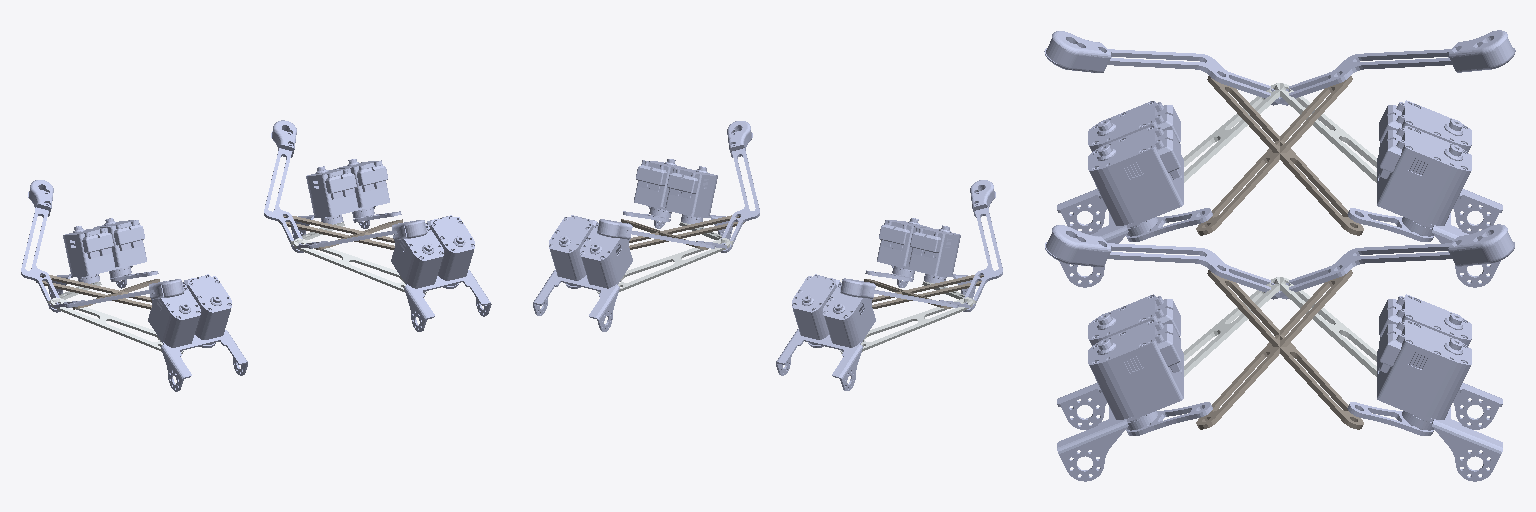
--- What the picture shows (computed from the rendered views, not written in the file) ---
3 views of the same robot in one strip: view 1: azimuth 30°, elevation 25°; view 2: azimuth 150°, elevation 25°; view 3: azimuth 270°, elevation 25° (orthographic).
Robot: stoch_two_abduction_urdf — 23 links, 22 joints (12 revolute, 8 continuous, 2 fixed); root link base_link; default pose: joints at zero except 4 at the middle of their limits (motor_front_left_abd_joint = -1.99, motor_front_right_abd_joint = -1.99, motor_back_left_abd_joint = -1.99, motor_back_right_abd_joint = -1.99).
Visible links, largest first — view 1: front_right_abd_link, back_right_abd_link, front_left_abd_link, back_left_abd_link, br_lower_hip_link, fr_lower_hip_link, fr_upper_hip_link, br_upper_hip_link, fl_lower_hip_link, bl_lower_hip_link, br_lower_knee_link, fr_lower_knee_link; view 2: front_left_abd_link, back_left_abd_link, back_right_abd_link, front_right_abd_link, fl_lower_hip_link, bl_lower_hip_link, bl_upper_hip_link, fl_upper_hip_link, br_lower_hip_link, fr_lower_hip_link, bl_lower_knee_link, fl_lower_knee_link; view 3: front_right_abd_link, front_left_abd_link, back_right_abd_link, back_left_abd_link, br_lower_hip_link, fr_lower_hip_link, bl_lower_hip_link, fl_lower_hip_link, bl_lower_knee_link, fr_lower_knee_link, br_lower_knee_link, fl_lower_knee_link (+8 smaller).
Link boxes in pixels (bbox=[...]): front_right_abd_link: bbox=[391, 215, 491, 331]; back_right_abd_link: bbox=[148, 274, 247, 391]; front_left_abd_link: bbox=[291, 159, 389, 239]; back_left_abd_link: bbox=[48, 218, 146, 298]; br_lower_hip_link: bbox=[21, 180, 60, 312]; fr_lower_hip_link: bbox=[264, 120, 303, 252]; fr_upper_hip_link: bbox=[294, 238, 426, 294]; br_upper_hip_link: bbox=[51, 297, 183, 353]; fl_lower_hip_link: bbox=[291, 220, 427, 248]; bl_lower_hip_link: bbox=[48, 279, 183, 308]; br_lower_knee_link: bbox=[36, 275, 151, 309]; fr_lower_knee_link: bbox=[279, 216, 394, 249]; front_left_abd_link: bbox=[533, 215, 632, 331]; back_left_abd_link: bbox=[776, 274, 875, 390]; back_right_abd_link: bbox=[877, 218, 975, 298]; front_right_abd_link: bbox=[634, 159, 732, 239]; fl_lower_hip_link: bbox=[721, 121, 759, 252]; bl_lower_hip_link: bbox=[963, 180, 1002, 311]; bl_upper_hip_link: bbox=[840, 297, 972, 353]; fl_upper_hip_link: bbox=[597, 238, 729, 293]; br_lower_hip_link: bbox=[840, 278, 975, 307]; fr_lower_hip_link: bbox=[597, 219, 732, 248]; bl_lower_knee_link: bbox=[872, 275, 983, 308]; fl_lower_knee_link: bbox=[629, 215, 744, 249]; front_right_abd_link: bbox=[1057, 294, 1183, 481]; front_left_abd_link: bbox=[1377, 294, 1502, 481]; back_right_abd_link: bbox=[1057, 101, 1183, 287]; back_left_abd_link: bbox=[1377, 100, 1502, 287]; br_lower_hip_link: bbox=[1271, 30, 1515, 105]; fr_lower_hip_link: bbox=[1271, 224, 1514, 299]; bl_lower_hip_link: bbox=[1044, 31, 1288, 105]; fl_lower_hip_link: bbox=[1045, 225, 1288, 299]; bl_lower_knee_link: bbox=[1207, 76, 1363, 235]; fr_lower_knee_link: bbox=[1196, 270, 1352, 429]; br_lower_knee_link: bbox=[1196, 76, 1352, 235]; fl_lower_knee_link: bbox=[1207, 270, 1363, 429].
Bounding box of the posed robot: 0.424 × 0.2779 × 0.1266 m (x, y, z).
Meshes: 9 distinct files referenced, 20 mesh visuals loaded (6 binary STL); not drawn: 3 (reference not matched to a file when rendering).

The robot description file, URDF, robot "stoch_two_abduction_urdf":
<robot
  name="stoch_two_abduction_urdf">
  <link
    name="base_link">
    <inertial>
      <origin
        xyz="-0.00018289 -0.00058314 -0.0014954"
        rpy="0 0 0" />
      <mass
        value="0.1" />
      <inertia
        ixx="1.703E-05"
        ixy="4.4289E-07"
        ixz="3.1832E-08"
        iyy="8.9209E-05"
        iyz="-1.5964E-06"
        izz="0.00010459" />
    </inertial>
    <visual>
      <origin
        xyz="0 0 0"
        rpy="0 0 0" />
      <geometry>
        <mesh
          filename="package://stoch_two_abduction_urdf/meshes/base_link.STL" />
      </geometry>
      <material
        name="">
        <color
          rgba="0.79216 0.81961 0.93333 1" />
      </material>
    </visual>
    <collision>
      <origin
        xyz="0 0 0"
        rpy="0 0 0" />
      <geometry>
        <mesh
          filename="package://stoch_two_abduction_urdf/meshes/base_link.STL" />
      </geometry>
    </collision>
  </link>
  <link
    name="front_body_link">
    <inertial>
      <origin
        xyz="0.088699 3.0745E-07 0.019722"
        rpy="0 0 0" />
      <mass
        value="1" />
      <inertia
        ixx="0.0022826"
        ixy="-5.8326E-09"
        ixz="-1.2357E-05"
        iyy="0.0005698"
        iyz="4.2795E-07"
        izz="0.0026158" />
    </inertial>
    <visual>
      <origin
        xyz="0 0 0"
        rpy="0 0 0" />
      <geometry>
        <mesh
          filename="package://stoch_two_abduction_urdf/meshes/front_body_link.STL" />
      </geometry>
      <material
        name="">
        <color
          rgba="0.79216 0.81961 0.93333 1" />
      </material>
    </visual>
    <collision>
      <origin
        xyz="0 0 0"
        rpy="0 0 0" />
      <geometry>
        <mesh
          filename="package://stoch_two_abduction_urdf/meshes/front_body_link.STL" />
      </geometry>
    </collision>
  </link>
  <joint
    name="motor_front_body_spine_joint"
    type="fixed">
    <origin
      xyz="0.050947 0 0"
      rpy="-2.2019E-15 1.7035E-16 3.4422E-15" />
    <parent
      link="base_link" />
    <child
      link="front_body_link" />
    <!-- <axis
      xyz="0 1 0" />
    <limit
      lower="-0.26"
      upper="0.26"
      effort="100"
      velocity="100" />
    <dynamics
      damping="0"
      friction="0" /> -->
  </joint>
  <link
    name="front_left_abd_link">
    <inertial>
      <origin
        xyz="4.118E-05 -0.032715 -0.048093"
        rpy="0 0 0" />
      <mass
        value="0.277" />
      <inertia
        ixx="1.1789E-05"
        ixy="2.5858E-08"
        ixz="1.1409E-07"
        iyy="4.0497E-05"
        iyz="-5.2784E-06"
        izz="4.3082E-05" />
    </inertial>
    <visual>
      <origin
        xyz="0 0 0"
        rpy="0 0 0" />
      <geometry>
        <mesh
          filename="package://stoch_two_abduction_urdf/meshes/front_left_abd_link.STL" />
      </geometry>
      <material
        name="">
        <color
          rgba="0.79216 0.81961 0.93333 1" />
      </material>
    </visual>
    <collision>
      <origin
        xyz="0 0 0"
        rpy="0 0 0" />
      <geometry>
        <mesh
          filename="package://stoch_two_abduction_urdf/meshes/front_left_abd_link.STL" />
      </geometry>
    </collision>
  </link>
  <joint
    name="motor_front_left_abd_joint"
    type="revolute">
    <origin
      xyz="0.0831 0.11512 0.0073929"
      rpy="-4.4959E-07 -5.8797E-16 3.47E-15" />
    <parent
      link="front_body_link" />
    <child
      link="front_left_abd_link" />
    <axis
      xyz="1 0 0" />
    <limit
      lower="-0.06"
      upper="-3.92"
      effort="100"
      velocity="100" />
    <dynamics
      damping="0"
      friction="0" />
  </joint>
  <link
    name="fl_upper_hip_link">
    <inertial>
      <origin
        xyz="1.793E-07 2.498E-16 -0.054218"
        rpy="0 0 0" />
      <mass
        value="0.05" />
      <inertia
        ixx="0"
        ixy="0"
        ixz="0"
        iyy="0"
        iyz="0"
        izz="0" />
    </inertial>
    <visual>
      <origin
        xyz="0 0 0"
        rpy="0 0 0" />
      <geometry>
        <mesh
          filename="package://stoch_two_abduction_urdf/meshes/fl_upper_hip_link.STL" />
      </geometry>
      <material
        name="">
        <color
          rgba="0.89804 0.91765 0.92941 1" />
      </material>
    </visual>
    <collision>
      <origin
        xyz="0 0 0"
        rpy="0 0 0" />
      <geometry>
        <mesh
          filename="package://stoch_two_abduction_urdf/meshes/fl_upper_hip_link.STL" />
      </geometry>
    </collision>
  </link>
  <joint
    name="motor_fl_upper_hip_joint"
    type="revolute">
    <origin
      xyz="-0.0175 -0.0015 -0.0385"
      rpy="-5.3246E-15 0.78557 -4.3361E-15" />
    <parent
      link="front_left_abd_link" />
    <child
      link="fl_upper_hip_link" />
    <axis
      xyz="0 -1 0" />
    <limit
      lower="-0.78"
      upper="0.78"
      effort="100"
      velocity="100" />
    <dynamics
      damping="0"
      friction="0" />
  </joint>
  <link
    name="fl_lower_hip_link">
    <inertial>
      <origin
        xyz="-0.034185 0.00011378 -0.11157"
        rpy="0 0 0" />
      <mass
        value="0.1" />
      <inertia
        ixx="9.59277e-06"
        ixy="5.4371E-09"
        ixz="-2.1257E-09"
        iyy="9.59277e-06"
        iyz="3.5983E-09"
        izz="9.59277e-06" />
    </inertial>
    <visual>
      <origin
        xyz="0 0 0"
        rpy="0 0 0" />
      <geometry>
        <mesh
          filename="package://stoch_two_abduction_urdf/meshes/fl_lower_hip_link.STL" />
      </geometry>
      <material
        name="">
        <color
          rgba="0.79216 0.81961 0.93333 1" />
      </material>
    </visual>
    <collision>
      <origin
        xyz="0 0 0"
        rpy="0 0 0" />
      <geometry>
        <mesh
          filename="package://stoch_two_abduction_urdf/meshes/fl_lower_hip_link.STL" />
      </geometry>
    </collision>
  </link>
  <joint
    name="fl_lower_hip_joint"
    type="continuous">
    <origin
      xyz="0 0.0045 -0.12"
      rpy="3.7352E-14 -1.4398 -3.7103E-14" />
    <parent
      link="fl_upper_hip_link" />
    <child
      link="fl_lower_hip_link" />
    <axis
      xyz="0 1 0" />
  </joint>
  <link
    name="fl_upper_knee_link">
    <inertial>
      <origin
        xyz="-2.7756E-17 1.3878E-17 -0.014638"
        rpy="0 0 0" />
      <mass
        value="0.1" />
      <inertia
        ixx="1.4068E-05"
        ixy="5.4371E-09"
        ixz="-2.1257E-09"
        iyy="1.4389E-05"
        iyz="3.5983E-09"
        izz="1.4389E-05" />
    </inertial>
    <visual>
      <origin
        xyz="0 0 0"
        rpy="0 0 0" />
      <geometry>
        <mesh
          filename="package://stoch_two_abduction_urdf/meshes/fl_upper_knee_link.STL" />
      </geometry>
      <material
        name="">
        <color
          rgba="0.79216 0.81961 0.93333 1" />
      </material>
    </visual>
    <collision>
      <origin
        xyz="0 0 0"
        rpy="0 0 0" />
      <geometry>
        <mesh
          filename="package://stoch_two_abduction_urdf/meshes/fl_upper_knee_link.STL" />
      </geometry>
    </collision>
  </link>
  <joint
    name="motor_fl_upper_knee_joint"
    type="revolute">
    <origin
      xyz="0.0175 -0.0015 -0.0385"
      rpy="-2.4427E-16 -0.34913 -3.4692E-15" />
    <parent
      link="front_left_abd_link" />
    <child
      link="fl_upper_knee_link" />
    <axis
      xyz="0 -1 0" />
    <limit
      lower="-1.22"
      upper="1.22"
      effort="100"
      velocity="100" />
    <dynamics
      damping="0"
      friction="0" />
  </joint>
  <link
    name="fl_lower_knee_link">
    <inertial>
      <origin
        xyz="2.7756E-17 1.3878E-17 -0.0775"
        rpy="0 0 0" />
      <mass
        value="0.1" />
      <inertia
        ixx="1.4068E-05"
        ixy="5.4371E-09"
        ixz="-2.1257E-09"
        iyy="1.4389E-05"
        iyz="3.5983E-09"
        izz="1.4389E-05" />
    </inertial>
    <visual>
      <origin
        xyz="0 0 0"
        rpy="0 0 0" />
      <geometry>
        <mesh
          filename="package://stoch_two_abduction_urdf/meshes/fl_lower_knee_link.STL" />
      </geometry>
      <material
        name="">
        <color
          rgba="0.65098 0.61961 0.58824 1" />
      </material>
    </visual>
    <collision>
      <origin
        xyz="0 0 0"
        rpy="0 0 0" />
      <geometry>
        <mesh
          filename="package://stoch_two_abduction_urdf/meshes/fl_lower_knee_link.STL" />
      </geometry>
    </collision>
  </link>
  <joint
    name="fl_lower_knee_joint"
    type="continuous">
    <origin
      xyz="0 0.00800000000000321 -0.04"
      rpy="-6.00351684713904E-16 1.32467433907094 -5.43469254040339E-16" />
    <parent
      link="fl_upper_knee_link" />
    <child
      link="fl_lower_knee_link" />
    <axis
      xyz="0 0.999999999999798 0" />
  </joint>
  <link
    name="front_right_abd_link">
    <inertial>
      <origin
        xyz="-4.118E-05 0.032715 -0.048093"
        rpy="0 0 0" />
      <mass
        value="0.277" />
      <inertia
        ixx="1.1789E-05"
        ixy="2.5858E-08"
        ixz="-1.1409E-07"
        iyy="4.0497E-05"
        iyz="5.2784E-06"
        izz="4.3082E-05" />
    </inertial>
    <visual>
      <origin
        xyz="0 0 0"
        rpy="0 0 0" />
      <geometry>
        <mesh
          filename="package://stoch_two_abduction_urdf/meshes/front_right_abd_link.STL" />
      </geometry>
      <material
        name="">
        <color
          rgba="0.79216 0.81961 0.93333 1" />
      </material>
    </visual>
    <collision>
      <origin
        xyz="0 0 0"
        rpy="0 0 0" />
      <geometry>
        <mesh
          filename="package://stoch_two_abduction_urdf/meshes/front_right_abd_link.STL" />
      </geometry>
    </collision>
  </link>
  <joint
    name="motor_front_right_abd_joint"
    type="revolute">
    <origin
      xyz="0.0831 -0.11512 0.007393"
      rpy="-6.5915E-08 5.6553E-16 3.5412E-15" />
    <parent
      link="front_body_link" />
    <child
      link="front_right_abd_link" />
    <axis
      xyz="-1 0 0" />
    <limit
      lower="-0.06"
      upper="-3.92"
      effort="100"
      velocity="100" />
    <dynamics
      damping="0"
      friction="0" />
  </joint>
  <link
    name="fr_upper_hip_link">
    <inertial>
      <origin
        xyz="1.793E-07 2.7756E-16 -0.054218"
        rpy="0 0 0" />
      <mass
        value="0.1" />
      <inertia
        ixx="1.4068E-05"
        ixy="5.4371E-09"
        ixz="-2.1257E-09"
        iyy="1.4389E-05"
        iyz="3.5983E-09"
        izz="1.4389E-05" />
    </inertial>
    <visual>
      <origin
        xyz="0 0 0"
        rpy="0 0 0" />
      <geometry>
        <mesh
          filename="package://stoch_two_abduction_urdf/meshes/fl_upper_hip_link.STL" />
      </geometry>
      <material
        name="">
        <color
          rgba="0.89804 0.91765 0.92941 1" />
      </material>
    </visual>
    <collision>
      <origin
        xyz="0 0 0"
        rpy="0 0 0" />
      <geometry>
        <mesh
          filename="package://stoch_two_abduction_urdf/meshes/fl_upper_hip_link.STL" />
      </geometry>
    </collision>
  </link>
  <joint
    name="motor_fr_upper_hip_joint"
    type="revolute">
    <origin
      xyz="-0.0175 0.0015 -0.0385"
      rpy="-4.9286E-15 0.78557 -3.9063E-15" />
    <parent
      link="front_right_abd_link" />
    <child
      link="fr_upper_hip_link" />
    <axis
      xyz="0 -1 0" />
    <limit
      lower="-0.78"
      upper="0.78"
      effort="100"
      velocity="100" />
    <dynamics
      damping="0"
      friction="0" />
  </joint>
  <link
    name="fr_lower_hip_link">
    <inertial>
      <origin
        xyz="-0.034185 0.00011378 -0.11157"
        rpy="0 0 0" />
      <mass
        value="0.1" />
      <inertia
        ixx="9.59277e-06"
        ixy="5.4371E-09"
        ixz="-2.1257E-06"
        iyy="9.59277e-06"
        iyz="3.5983E-08"
        izz="9.59277e-06" />
    </inertial>
    <visual>
      <origin
        xyz="0 0 0"
        rpy="0 0 0" />
      <geometry>
        <mesh
          filename="package://stoch_two_abduction_urdf/meshes/fl_lower_hip_link.STL" />
      </geometry>
      <material
        name="">
        <color
          rgba="0.79216 0.81961 0.93333 1" />
      </material>
    </visual>
    <collision>
      <origin
        xyz="0 0 0"
        rpy="0 0 0" />
      <geometry>
        <mesh
          filename="package://stoch_two_abduction_urdf/meshes/fl_lower_hip_link.STL" />
      </geometry>
    </collision>
  </link>
  <joint
    name="fr_lower_hip_joint"
    type="continuous">
    <origin
      xyz="0 -0.0045 -0.12"
      rpy="0 -1.4398 0" />
    <parent
      link="fr_upper_hip_link" />
    <child
      link="fr_lower_hip_link" />
    <axis
      xyz="0 1 0" />
  </joint>
  <link
    name="fr_upper_knee_link">
    <inertial>
      <origin
        xyz="-2.7756E-17 -1.3878E-17 -0.014638"
        rpy="0 0 0" />
      <mass
        value="0.1" />
      <inertia
        ixx="1.4068E-05"
        ixy="5.4371E-09"
        ixz="-2.1257E-09"
        iyy="1.4389E-05"
        iyz="3.5983E-09"
        izz="1.4389E-05" />
    </inertial>
    <visual>
      <origin
        xyz="0 0 0"
        rpy="0 0 0" />
      <geometry>
        <mesh
          filename="package://stoch_two_abduction_urdf/meshes/fl_upper_knee_link.STL" />
      </geometry>
      <material
        name="">
        <color
          rgba="0.79216 0.81961 0.93333 1" />
      </material>
    </visual>
    <collision>
      <origin
        xyz="0 0 0"
        rpy="0 0 0" />
      <geometry>
        <mesh
          filename="package://stoch_two_abduction_urdf/meshes/fl_upper_knee_link.STL" />
      </geometry>
    </collision>
  </link>
  <joint
    name="motor_fr_upper_knee_joint"
    type="revolute">
    <origin
      xyz="0.0175 0.0015 -0.0385"
      rpy="2.2844E-18 -0.34913 -3.3454E-15" />
    <parent
      link="front_right_abd_link" />
    <child
      link="fr_upper_knee_link" />
    <axis
      xyz="0 -1 0" />
    <limit
      lower="-1.22"
      upper="1.22"
      effort="100"
      velocity="100" />
    <dynamics
      damping="0"
      friction="0" />
  </joint>
  <link
    name="fr_lower_knee_link">
    <inertial>
      <origin
        xyz="2.7756E-17 -1.3878E-17 -0.0775"
        rpy="0 0 0" />
      <mass
        value="0.1" />
      <inertia
        ixx="1.4068E-05"
        ixy="5.4371E-09"
        ixz="-2.1257E-09"
        iyy="1.4389E-05"
        iyz="3.5983E-09"
        izz="1.4389E-05" />
    </inertial>
    <visual>
      <origin
        xyz="0 0 0"
        rpy="0 0 0" />
      <geometry>
        <mesh
          filename="package://stoch_two_abduction_urdf/meshes/fl_lower_knee_link.STL" />
      </geometry>
      <material
        name="">
        <color
          rgba="0.65098 0.61961 0.58824 1" />
      </material>
    </visual>
    <collision>
      <origin
        xyz="0 0 0"
        rpy="0 0 0" />
      <geometry>
        <mesh
          filename="package://stoch_two_abduction_urdf/meshes/fl_lower_knee_link.STL" />
      </geometry>
    </collision>
  </link>
  <joint
    name="fr_lower_knee_joint"
    type="continuous">
    <origin
      xyz="0 -0.008 -0.04"
      rpy="-1.3511E-15 1.3247 -1.2659E-15" />
    <parent
      link="fr_upper_knee_link" />
    <child
      link="fr_lower_knee_link" />
    <axis
      xyz="0 1 0" />
  </joint>
  <link
    name="back_body_link">
    <inertial>
      <origin
        xyz="-0.088631 -3.0557E-07 0.019269"
        rpy="0 0 0" />
      <mass
        value="1.43" />
      <inertia
        ixx="0.0022927"
        ixy="-5.8531E-09"
        ixz="-7.6887E-08"
        iyy="0.00058938"
        iyz="4.2524E-07"
        izz="0.0026252" />
    </inertial>
    <visual>
      <origin
        xyz="0 0 0"
        rpy="0 0 0" />
      <geometry>
        <mesh
          filename="package://stoch_two_abduction_urdf/meshes/back_body_link.STL" />
      </geometry>
      <material
        name="">
        <color
          rgba="0.79216 0.81961 0.93333 1" />
      </material>
    </visual>
    <collision>
      <origin
        xyz="0 0 0"
        rpy="0 0 0" />
      <geometry>
        <mesh
          filename="package://stoch_two_abduction_urdf/meshes/back_body_link.STL" />
      </geometry>
    </collision>
  </link>
  <joint
    name="motor_back_body_spine_joint"
    type="fixed">
    <origin
      xyz="-0.051053 0 0"
      rpy="-3.1503E-15 1.7035E-16 -1.0297E-14" />
    <parent
      link="base_link" />
    <child
      link="back_body_link" />
    <!-- <axis
      xyz="0 1 0" />
    <limit
      lower="-0.26"
      upper="0.26"
      effort="100"
      velocity="100" />
    <dynamics
      damping="0"
      friction="0" /> -->
  </joint>
  <link
    name="back_left_abd_link">
    <inertial>
      <origin
        xyz="4.118E-05 -0.032715 -0.048093"
        rpy="0 0 0" />
      <mass
        value="0.277" />
      <inertia
        ixx="1.1789E-05"
        ixy="2.5858E-08"
        ixz="1.1409E-07"
        iyy="4.0497E-05"
        iyz="-5.2784E-06"
        izz="4.3082E-05" />
    </inertial>
    <visual>
      <origin
        xyz="0 0 0"
        rpy="0 0 0" />
      <geometry>
        <mesh
          filename="package://stoch_two_abduction_urdf/meshes/front_left_abd_link.STL" />
      </geometry>
      <material
        name="">
        <color
          rgba="0.79216 0.81961 0.93333 1" />
      </material>
    </visual>
    <collision>
      <origin
        xyz="0 0 0"
        rpy="0 0 0" />
      <geometry>
        <mesh
          filename="package://stoch_two_abduction_urdf/meshes/front_left_abd_link.STL" />
      </geometry>
    </collision>
  </link>
  <joint
    name="motor_back_left_abd_joint"
    type="revolute">
    <origin
      xyz="-0.0857 0.11512 0.007393"
      rpy="-4.4959E-07 -3.1031E-16 -5.0331E-14" />
    <parent
      link="back_body_link" />
    <child
      link="back_left_abd_link" />
    <axis
      xyz="1 0 0" />
    <limit
      lower="-0.06"
      upper="-3.92"
      effort="100"
      velocity="100" />
    <dynamics
      damping="0"
      friction="0" />
  </joint>
  <link
    name="bl_upper_hip_link">
    <inertial>
      <origin
        xyz="1.793E-07 2.498E-16 -0.054218"
        rpy="0 0 0" />
      <mass
        value="0.1" />
      <inertia
        ixx="1.4068E-05"
        ixy="5.4371E-09"
        ixz="-2.1257E-09"
        iyy="1.4389E-05"
        iyz="3.5983E-09"
        izz="1.4389E-05" />
    </inertial>
    <visual>
      <origin
        xyz="0 0 0"
        rpy="0 0 0" />
      <geometry>
        <mesh
          filename="package://stoch_two_abduction_urdf/meshes/fl_upper_hip_link.STL" />
      </geometry>
      <material
        name="">
        <color
          rgba="0.89804 0.91765 0.92941 1" />
      </material>
    </visual>
    <collision>
      <origin
        xyz="0 0 0"
        rpy="0 0 0" />
      <geometry>
        <mesh
          filename="package://stoch_two_abduction_urdf/meshes/fl_upper_hip_link.STL" />
      </geometry>
    </collision>
  </link>
  <joint
    name="motor_bl_upper_hip_joint"
    type="revolute">
    <origin
      xyz="-0.0175 -0.0015 -0.0385"
      rpy="-4.7626E-15 0.7854 3.3627E-15" />
    <parent
      link="back_left_abd_link" />
    <child
      link="bl_upper_hip_link" />
    <axis
      xyz="0 -1 0" />
    <limit
      lower="-0.78"
      upper="0.78"
      effort="100"
      velocity="100" />
    <dynamics
      damping="0"
      friction="0" />
  </joint>
  <link
    name="bl_lower_hip_link">
    <inertial>
      <origin
        xyz="-0.034185 0.00011378 -0.11157"
        rpy="0 0 0" />
      <mass
        value="0.1" />
      <inertia
        ixx="9.59277e-06"
        ixy="5.4371E-09"
        ixz="-2.1257E-06"
        iyy="9.59277e-06"
        iyz="3.5983E-08"
        izz="9.59277e-06" />
    </inertial>
    <visual>
      <origin
        xyz="0 0 0"
        rpy="0 0 0" />
      <geometry>
        <mesh
          filename="package://stoch_two_abduction_urdf/meshes/fl_lower_hip_link.STL" />
      </geometry>
      <material
        name="">
        <color
          rgba="0.79216 0.81961 0.93333 1" />
      </material>
    </visual>
    <collision>
      <origin
        xyz="0 0 0"
        rpy="0 0 0" />
      <geometry>
        <mesh
          filename="package://stoch_two_abduction_urdf/meshes/fl_lower_hip_link.STL" />
      </geometry>
    </collision>
  </link>
  <joint
    name="bl_lower_hip_joint"
    type="continuous">
    <origin
      xyz="0 0.0045 -0.12"
      rpy="3.8659E-14 -1.4394 -3.8737E-14" />
    <parent
      link="bl_upper_hip_link" />
    <child
      link="bl_lower_hip_link" />
    <axis
      xyz="0 1 0" />
  </joint>
  <link
    name="bl_upper_knee_link">
    <inertial>
      <origin
        xyz="0 1.3878E-17 -0.014638"
        rpy="0 0 0" />
      <mass
        value="0.1" />
      <inertia
        ixx="1.4068E-05"
        ixy="5.4371E-09"
        ixz="-2.1257E-09"
        iyy="1.4389E-05"
        iyz="3.5983E-09"
        izz="1.4389E-05" />
    </inertial>
    <visual>
      <origin
        xyz="0 0 0"
        rpy="0 0 0" />
      <geometry>
        <mesh
          filename="package://stoch_two_abduction_urdf/meshes/fl_upper_knee_link.STL" />
      </geometry>
      <material
        name="">
        <color
          rgba="0.79216 0.81961 0.93333 1" />
      </material>
    </visual>
    <collision>
      <origin
        xyz="0 0 0"
        rpy="0 0 0" />
      <geometry>
        <mesh
          filename="package://stoch_two_abduction_urdf/meshes/fl_upper_knee_link.STL" />
      </geometry>
    </collision>
  </link>
  <joint
    name="motor_bl_upper_knee_joint"
    type="revolute">
    <origin
      xyz="0.0175 -0.0015 -0.0385"
      rpy="-6.7366E-18 -0.34907 3.4938E-15" />
    <parent
      link="back_left_abd_link" />
    <child
      link="bl_upper_knee_link" />
    <axis
      xyz="0 -1 0" />
    <limit
      lower="-1.22"
      upper="1.22"
      effort="100"
      velocity="100" />
    <dynamics
      damping="0"
      friction="0" />
  </joint>
  <link
    name="bl_lower_knee_link">
    <inertial>
      <origin
        xyz="1.301E-18 0 -0.0775"
        rpy="0 0 0" />
      <mass
        value="0.1" />
      <inertia
        ixx="1.4068E-05"
        ixy="5.4371E-09"
        ixz="-2.1257E-09"
        iyy="1.4389E-05"
        iyz="3.5983E-09"
        izz="1.4389E-05" />
    </inertial>
    <visual>
      <origin
        xyz="0 0 0"
        rpy="0 0 0" />
      <geometry>
        <mesh
          filename="package://stoch_two_abduction_urdf/meshes/fl_lower_knee_link.STL" />
      </geometry>
      <material
        name="">
        <color
          rgba="0.65098 0.61961 0.58824 1" />
      </material>
    </visual>
    <collision>
      <origin
        xyz="0 0 0"
        rpy="0 0 0" />
      <geometry>
        <mesh
          filename="package://stoch_two_abduction_urdf/meshes/fl_lower_knee_link.STL" />
      </geometry>
    </collision>
  </link>
  <joint
    name="bl_lower_knee_joint"
    type="continuous">
    <origin
      xyz="0 0.008 -0.04"
      rpy="-1.9439E-16 1.3245 -1.3657E-16" />
    <parent
      link="bl_upper_knee_link" />
    <child
      link="bl_lower_knee_link" />
    <axis
      xyz="0 1 0" />
  </joint>
  <link
    name="back_right_abd_link">
    <inertial>
      <origin
        xyz="-4.118E-05 0.032715 -0.048093"
        rpy="0 0 0" />
      <mass
        value="0.277" />
      <inertia
        ixx="1.1789E-05"
        ixy="2.5858E-08"
        ixz="-1.1409E-07"
        iyy="4.0497E-05"
        iyz="5.2784E-06"
        izz="4.3082E-05" />
    </inertial>
    <visual>
      <origin
        xyz="0 0 0"
        rpy="0 0 0" />
      <geometry>
        <mesh
          filename="package://stoch_two_abduction_urdf/meshes/front_right_abd_link.STL" />
      </geometry>
      <material
        name="">
        <color
          rgba="0.79216 0.81961 0.93333 1" />
      </material>
    </visual>
    <collision>
      <origin
        xyz="0 0 0"
        rpy="0 0 0" />
      <geometry>
        <mesh
          filename="package://stoch_two_abduction_urdf/meshes/front_right_abd_link.STL" />
      </geometry>
    </collision>
  </link>
  <joint
    name="motor_back_right_abd_joint"
    type="revolute">
    <origin
      xyz="-0.0857 -0.11512 0.007393"
      rpy="4.4959E-07 8.3667E-16 1.0447E-14" />
    <parent
      link="back_body_link" />
    <child
      link="back_right_abd_link" />
    <axis
      xyz="-1 0 0" />
    <limit
      lower="-0.06"
      upper="-3.92"
      effort="100"
      velocity="100" />
    <dynamics
      damping="0"
      friction="0" />
  </joint>
  <link
    name="br_upper_hip_link">
    <inertial>
      <origin
        xyz="1.793E-07 2.3592E-16 -0.054218"
        rpy="0 0 0" />
      <mass
        value="0.1" />
      <inertia
        ixx="1.4068E-05"
        ixy="5.4371E-09"
        ixz="-2.1257E-09"
        iyy="1.4389E-05"
        iyz="3.5983E-09"
        izz="1.4389E-05" />
    </inertial>
    <visual>
      <origin
        xyz="0 0 0"
        rpy="0 0 0" />
      <geometry>
        <mesh
          filename="package://stoch_two_abduction_urdf/meshes/fl_upper_hip_link.STL" />
      </geometry>
      <material
        name="">
        <color
          rgba="0.89804 0.91765 0.92941 1" />
      </material>
    </visual>
    <collision>
      <origin
        xyz="0 0 0"
        rpy="0 0 0" />
      <geometry>
        <mesh
          filename="package://stoch_two_abduction_urdf/meshes/fl_upper_hip_link.STL" />
      </geometry>
    </collision>
  </link>
  <joint
    name="motor_br_upper_hip_joint"
    type="revolute">
    <origin
      xyz="-0.0175 0.0015 -0.0385"
      rpy="-5.0242E-15 0.7854 4.6722E-14" />
    <parent
      link="back_right_abd_link" />
    <child
      link="br_upper_hip_link" />
    <axis
      xyz="0 -1 0" />
    <limit
      lower="-0.78"
      upper="0.78"
      effort="100"
      velocity="100" />
    <dynamics
      damping="0"
      friction="0" />
  </joint>
  <link
    name="br_lower_hip_link">
    <inertial>
      <origin
        xyz="-0.034185 0.00011378 -0.11157"
        rpy="0 0 0" />
      <mass
        value="0.1" />
      <inertia
        ixx="9.59277e-06"
        ixy="5.4371E-09"
        ixz="-2.1257E-06"
        iyy="9.59277e-06"
        iyz="3.5983E-08"
        izz="9.59277e-06" />
    </inertial>
    <visual>
      <origin
        xyz="0 0 0"
        rpy="0 0 0" />
      <geometry>
        <mesh
          filename="package://stoch_two_abduction_urdf/meshes/fl_lower_hip_link.STL" />
      </geometry>
      <material
        name="">
        <color
          rgba="0.79216 0.81961 0.93333 1" />
      </material>
    </visual>
    <collision>
      <origin
        xyz="0 0 0"
        rpy="0 0 0" />
      <geometry>
        <mesh
          filename="package://stoch_two_abduction_urdf/meshes/fl_lower_hip_link.STL" />
      </geometry>
    </collision>
  </link>
  <joint
    name="br_lower_hip_joint"
    type="continuous">
    <origin
      xyz="0 -0.0045 -0.12"
      rpy="3.8983E-14 -1.4388 -3.8443E-14" />
    <parent
      link="br_upper_hip_link" />
    <child
      link="br_lower_hip_link" />
    <axis
      xyz="0 1 0" />
  </joint>
  <link
    name="br_upper_knee_link">
    <inertial>
      <origin
        xyz="2.7756E-17 -1.3878E-17 -0.014638"
        rpy="0 0 0" />
      <mass
        value="0.1" />
      <inertia
        ixx="1.4068E-05"
        ixy="5.4371E-09"
        ixz="-2.1257E-09"
        iyy="1.4389E-05"
        iyz="3.5983E-09"
        izz="1.4389E-05" />
    </inertial>
    <visual>
      <origin
        xyz="0 0 0"
        rpy="0 0 0" />
      <geometry>
        <mesh
          filename="package://stoch_two_abduction_urdf/meshes/fl_upper_knee_link.STL" />
      </geometry>
      <material
        name="">
        <color
          rgba="0.79216 0.81961 0.93333 1" />
      </material>
    </visual>
    <collision>
      <origin
        xyz="0 0 0"
        rpy="0 0 0" />
      <geometry>
        <mesh
          filename="package://stoch_two_abduction_urdf/meshes/fl_upper_knee_link.STL" />
      </geometry>
    </collision>
  </link>
  <joint
    name="motor_br_upper_knee_joint"
    type="revolute">
    <origin
      xyz="0.0175 0.0015 -0.0385"
      rpy="1.0343E-16 -0.34907 4.7367E-14" />
    <parent
      link="back_right_abd_link" />
    <child
      link="br_upper_knee_link" />
    <axis
      xyz="0 -1 0" />
    <limit
      lower="-1.22"
      upper="1.22"
      effort="100"
      velocity="100" />
    <dynamics
      damping="0"
      friction="0" />
  </joint>
  <link
    name="br_lower_knee_link">
    <inertial>
      <origin
        xyz="-2.6021E-17 -2.7756E-17 -0.0775"
        rpy="0 0 0" />
      <mass
        value="0.1" />
      <inertia
        ixx="1.4068E-05"
        ixy="5.4371E-09"
        ixz="-2.1257E-09"
        iyy="1.4389E-05"
        iyz="3.5983E-09"
        izz="1.4389E-05" />
    </inertial>
    <visual>
      <origin
        xyz="0 0 0"
        rpy="0 0 0" />
      <geometry>
        <mesh
          filename="package://stoch_two_abduction_urdf/meshes/fl_lower_knee_link.STL" />
      </geometry>
      <material
        name="">
        <color
          rgba="0.65098 0.61961 0.58824 1" />
      </material>
    </visual>
    <collision>
      <origin
        xyz="0 0 0"
        rpy="0 0 0" />
      <geometry>
        <mesh
          filename="package://stoch_two_abduction_urdf/meshes/fl_lower_knee_link.STL" />
      </geometry>
    </collision>
  </link>
  <joint
    name="br_lower_knee_joint"
    type="continuous">
    <origin
      xyz="0 -0.008 -0.04"
      rpy="7.1694E-17 1.3245 4.3167E-17" />
    <parent
      link="br_upper_knee_link" />
    <child
      link="br_lower_knee_link" />
    <axis
      xyz="0 1 0" />
  </joint>
</robot>
